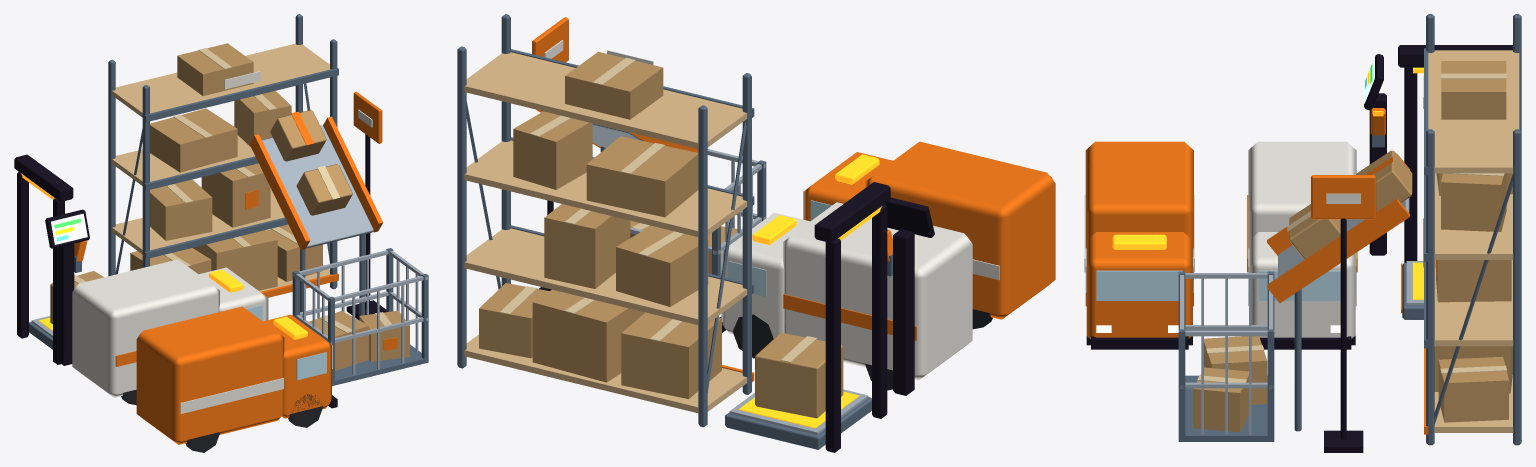
File: station_transport_3.glb
3 renders of one model, left to right at view 1: azimuth 30°, elevation 25°; view 2: azimuth 150°, elevation 25°; view 3: azimuth 270°, elevation 25°, orthographic. The views are drawn at different scales.
Parts seen in each view (by area): view 1: station_transport_3; view 2: station_transport_3; view 3: station_transport_3.
Part boxes in pixels (x1=…): station_transport_3: x1=14, y1=14, x2=428, y2=452; station_transport_3: x1=457, y1=14, x2=1055, y2=452; station_transport_3: x1=1084, y1=14, x2=1521, y2=452.
Bounding box in the file's own units: 2.16 × 1.6 × 2.01.
